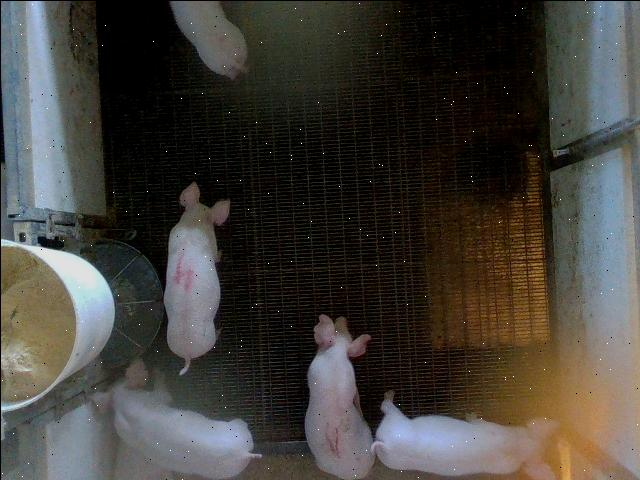pig-4: (162, 181, 229, 373)
